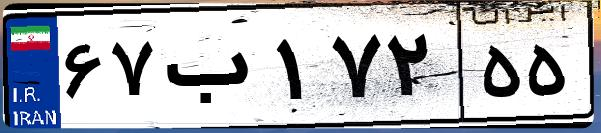1: (270, 28, 330, 110)
2: (385, 28, 445, 110)
5: (475, 38, 525, 113), (525, 38, 570, 115)
6: (57, 26, 110, 100)
7: (330, 28, 385, 110), (110, 28, 158, 98)
ب: (158, 20, 270, 120)
